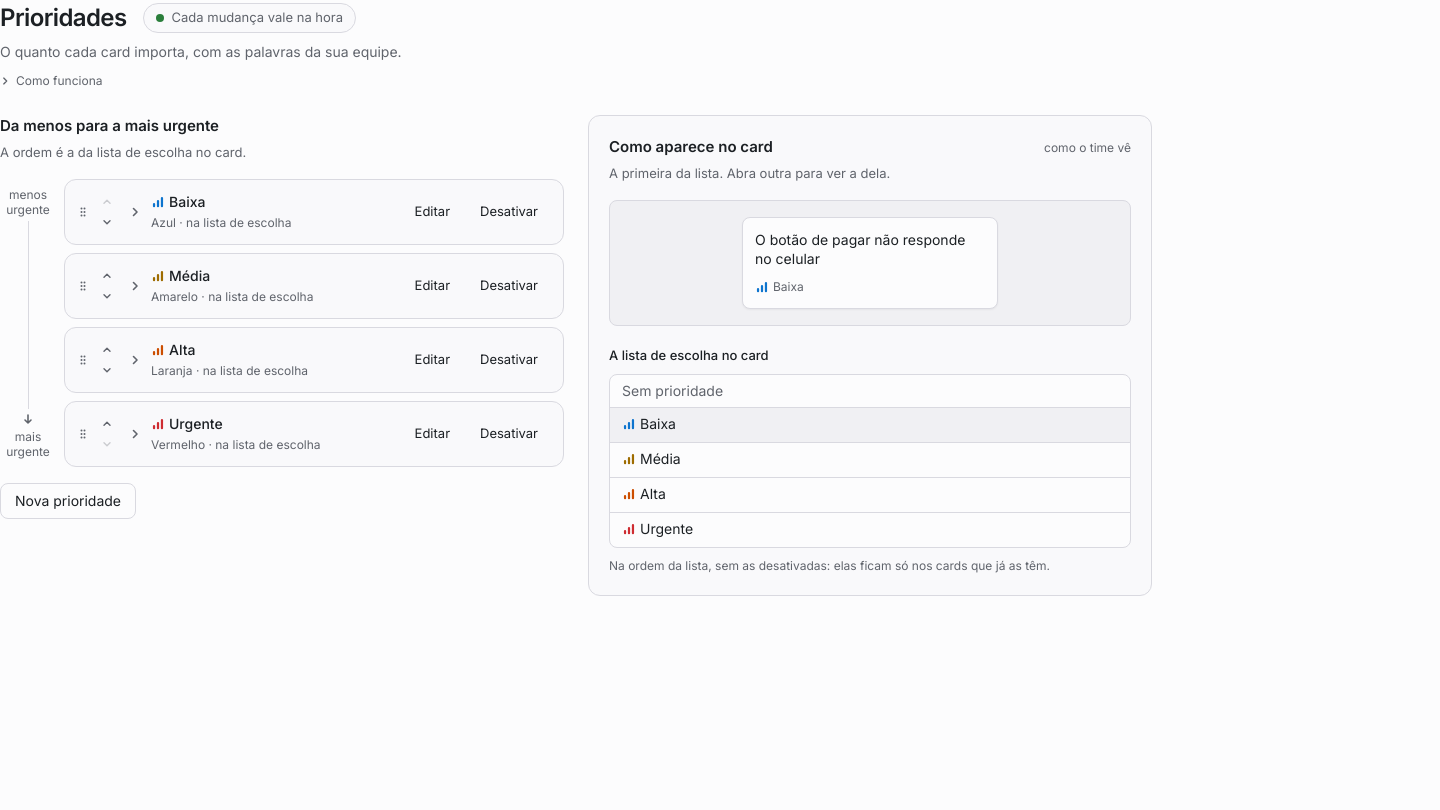
Test: a tela de Prioridades › desativar pede confirmacao, e so entao grava
Click the button with aria-label "Desativar Alta" at (509, 360), box [467,344,551,376]
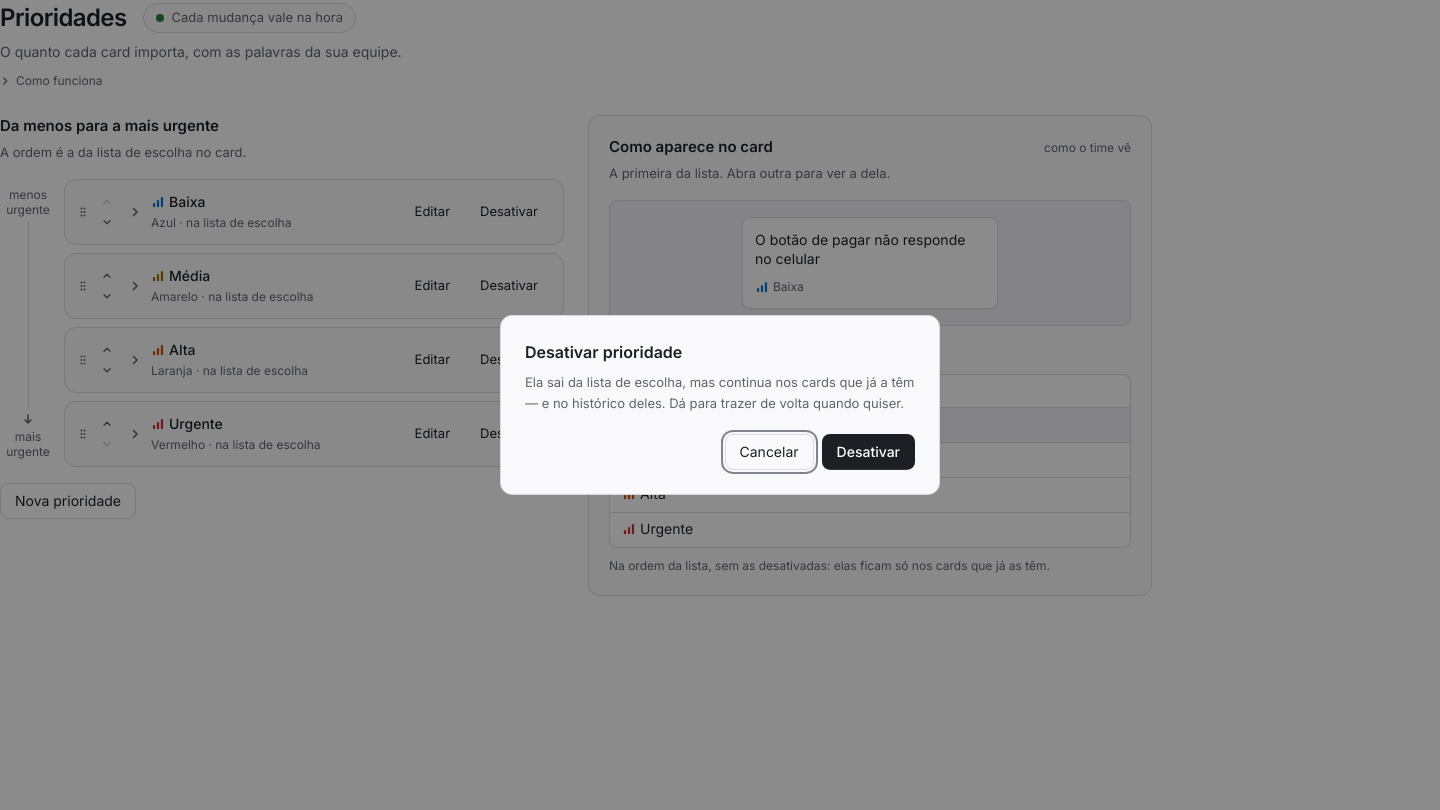
expect the text "continua nos cards que já a têm" is shown: met, box [525,374,914,411]
Click the button "Desativar" at (868, 452), box [822,434,915,470]
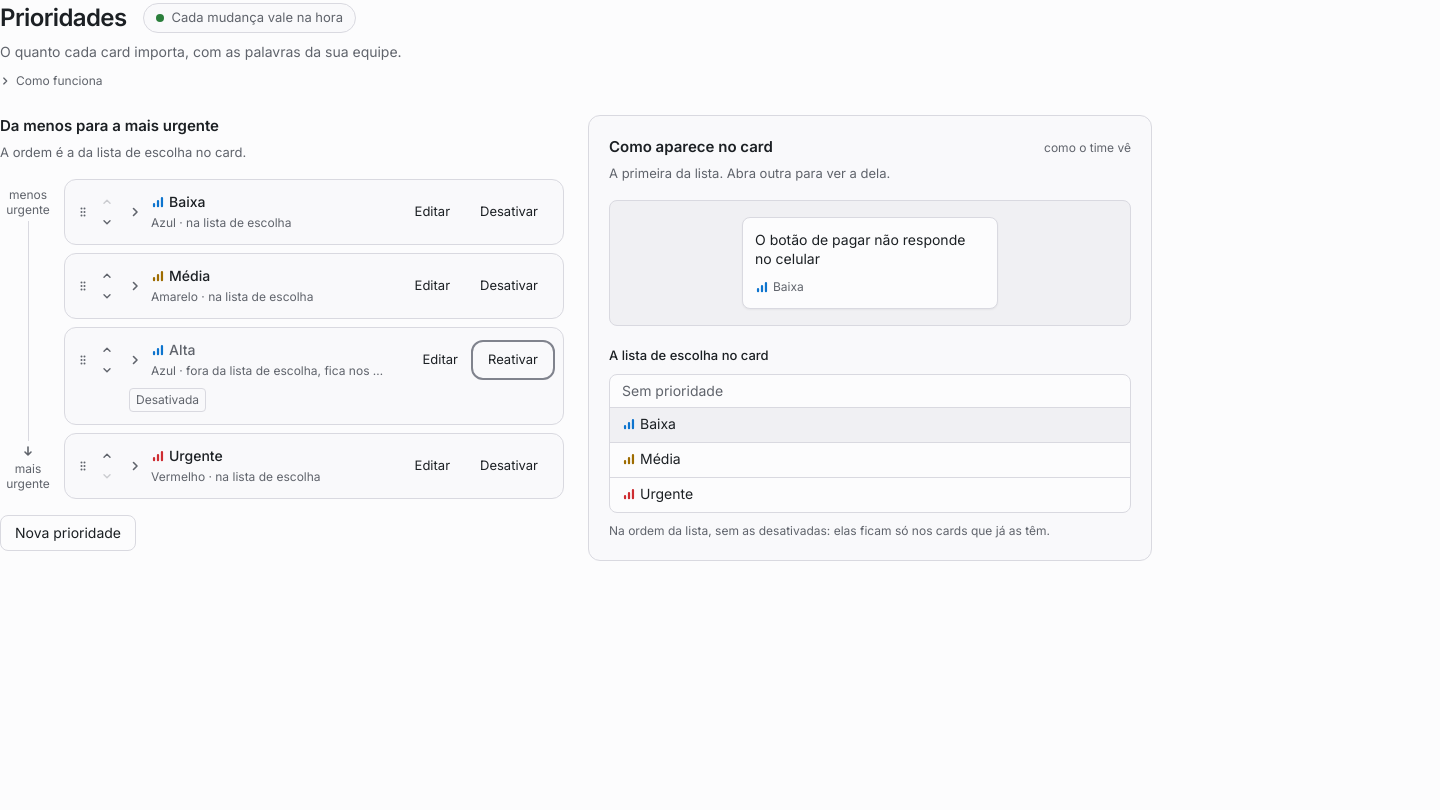
expect the button with aria-label "Reativar Alta" is shown: met, box [475,344,551,376]
